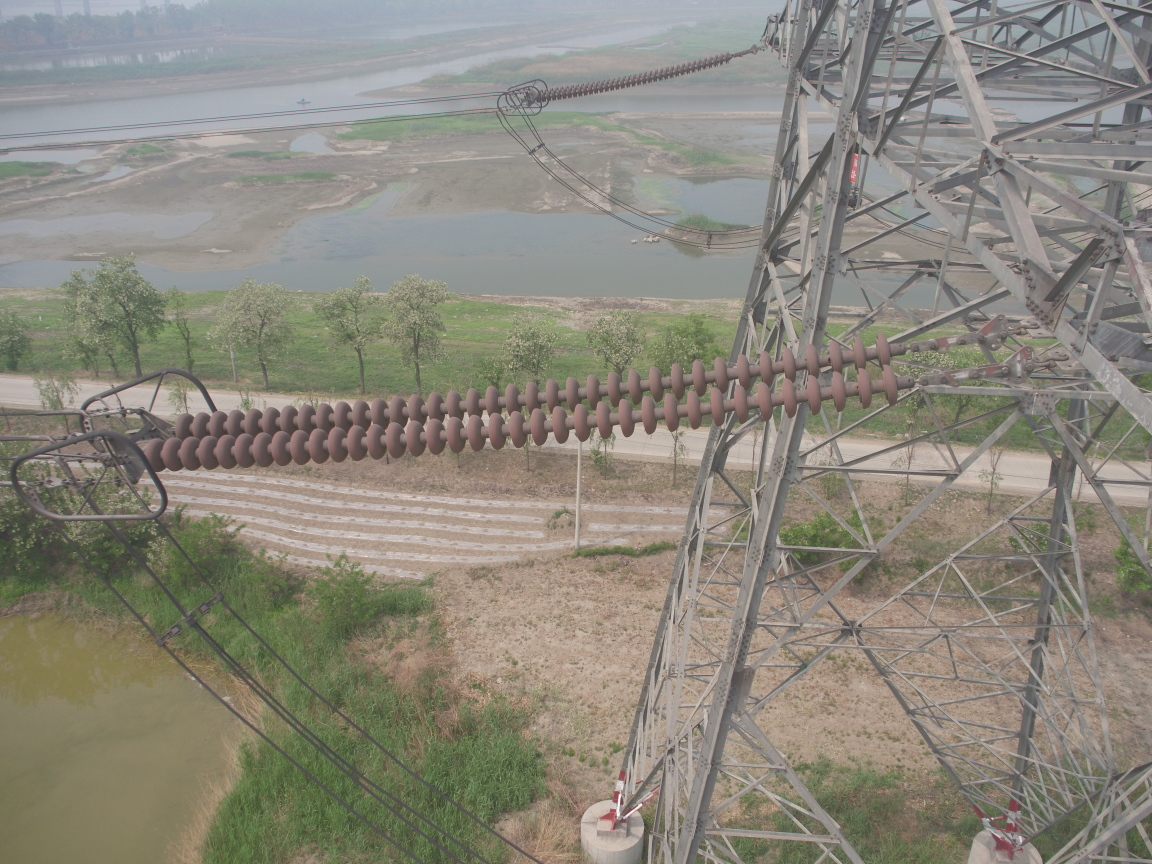insulator: (132, 329, 939, 478), (530, 48, 745, 104)
